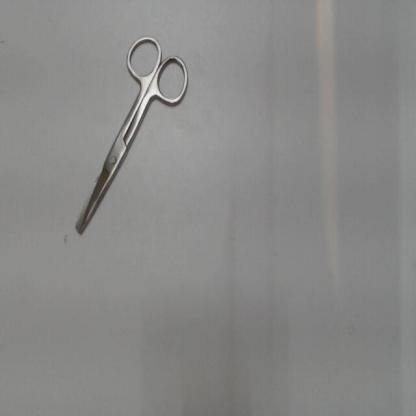Dressing Scissors: (66, 26, 196, 247)
